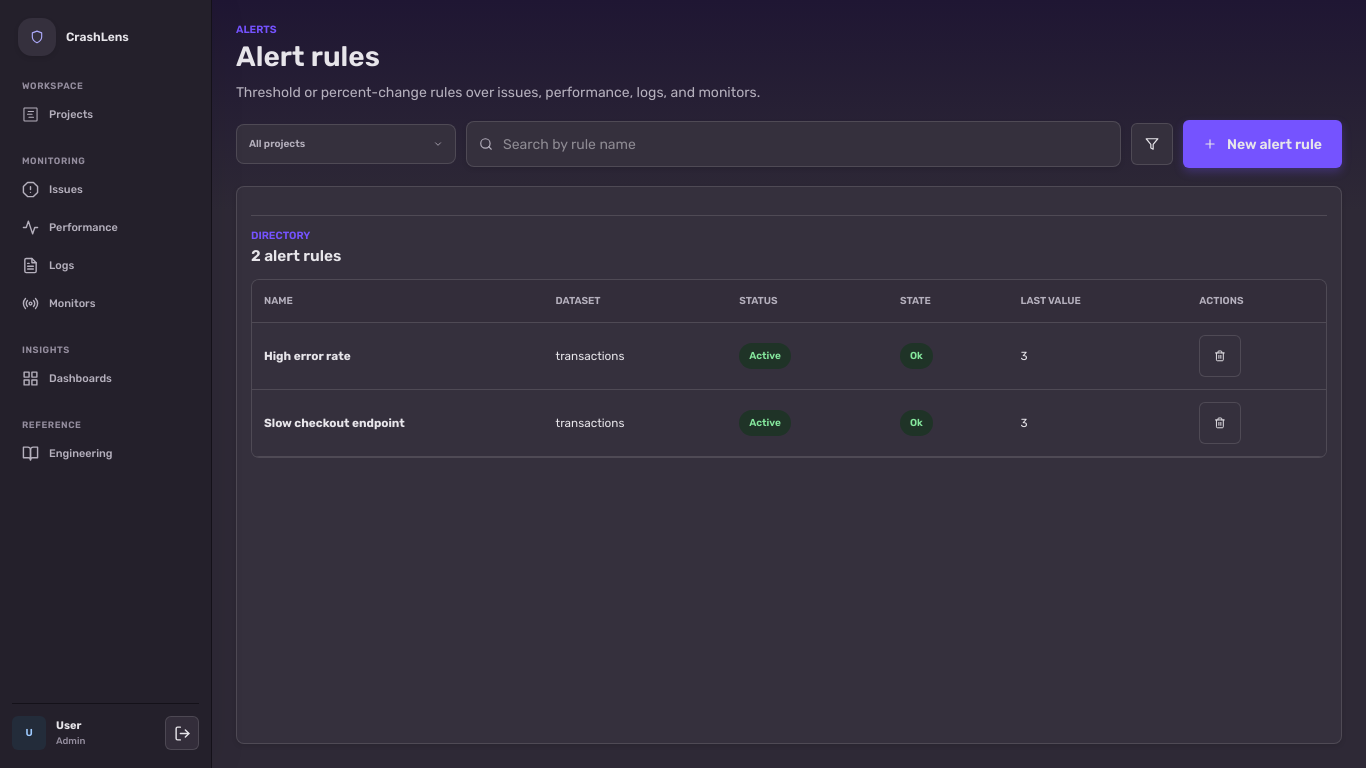
AlertsPage › filters the visible list client-side by rule name search
Expected: the text "High error rate" is shown, [264,349,351,363]
Expected: the text "Slow checkout endpoint" is shown, [264,416,405,430]
Step 1. Type "checkout" into the field with placeholder "Search by rule name" → (806, 144), box [503,135,1108,154]
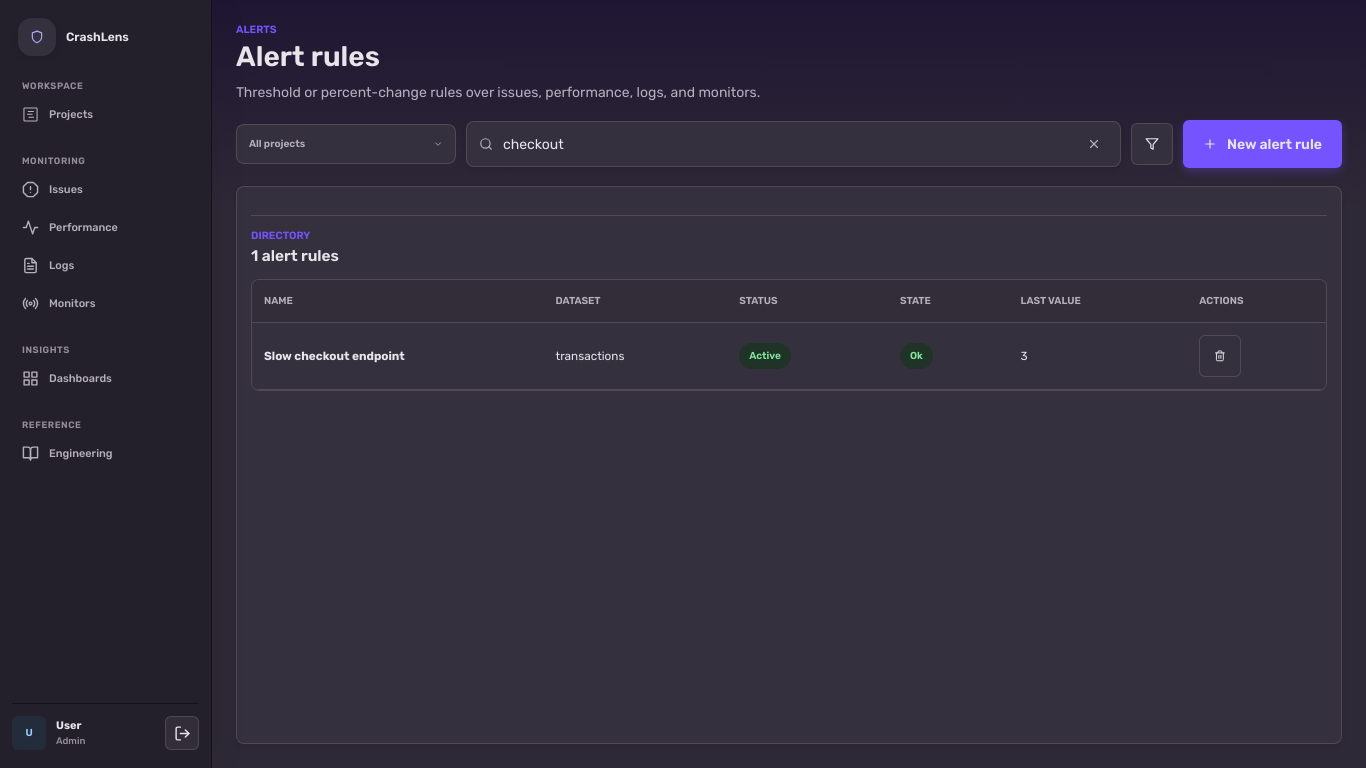
Expected: the text "Slow checkout endpoint" is shown, [264,349,405,363]
Expected: the text "High error rate" is gone
